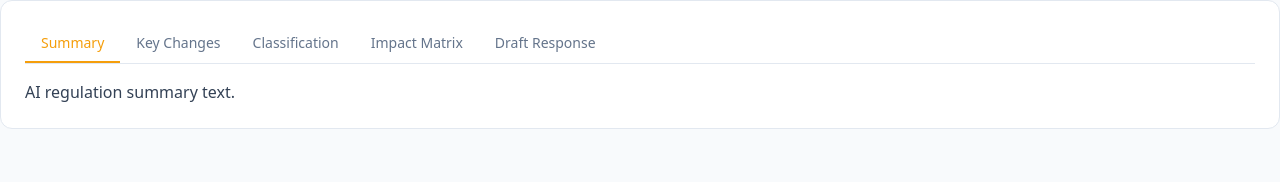
Test: EnrichmentPanel › switches to classification tab
This screenshot has width=1280, height=182.
Click the tab "Classification". click: (296, 44)
box: [237, 25, 355, 63]
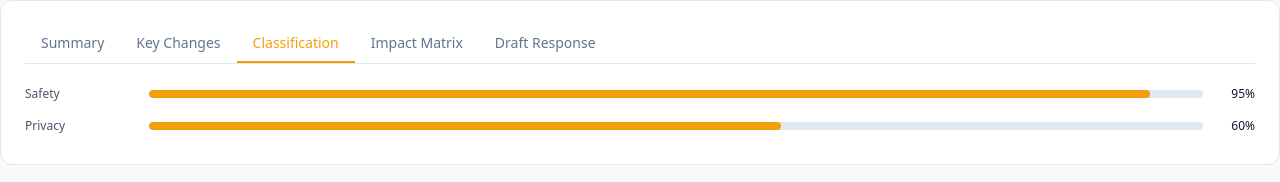
Now the text "safety" is shown, box [25, 85, 60, 102]
Now the text "95%" is shown, box [1231, 85, 1255, 102]
